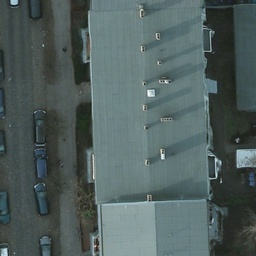car: (33, 182, 51, 216), (31, 112, 47, 144), (33, 147, 48, 181), (0, 191, 15, 223), (28, 0, 42, 17), (0, 129, 7, 156), (0, 89, 6, 119), (0, 48, 4, 81), (7, 0, 20, 7)
